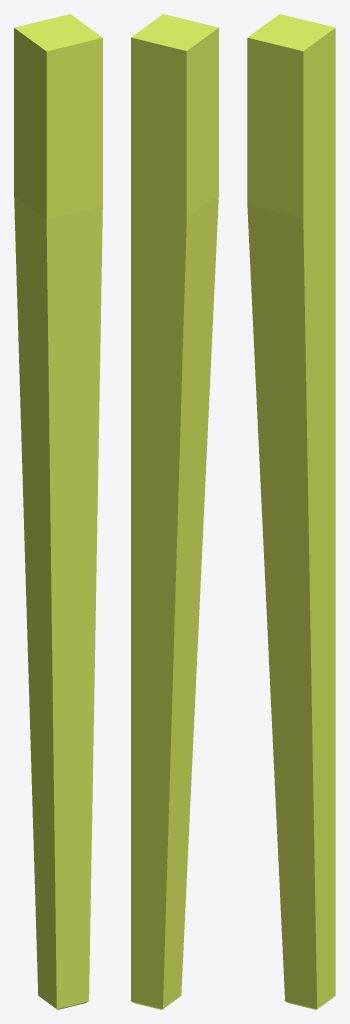
The model's file is original-23.obj.
The picture shows the model from 3 angles, left to right: view 1: azimuth 30°, elevation 25°; view 2: azimuth 150°, elevation 25°; view 3: azimuth 330°, elevation 25°; orthographic projection.
Parts seen in each view (by area): view 1: Legs4/Legs12/mesh23/mesh23-geometry#mesh23-geometry; view 2: Legs4/Legs12/mesh23/mesh23-geometry#mesh23-geometry; view 3: Legs4/Legs12/mesh23/mesh23-geometry#mesh23-geometry.
Boxes of the visible parts, x1,y1,x2,y2 form: Legs4/Legs12/mesh23/mesh23-geometry#mesh23-geometry: [14, 14, 102, 1009]; Legs4/Legs12/mesh23/mesh23-geometry#mesh23-geometry: [131, 14, 218, 1009]; Legs4/Legs12/mesh23/mesh23-geometry#mesh23-geometry: [247, 14, 335, 1009].
Size of the model in its own units: 0.0599 by 0.9915 by 0.0598.
